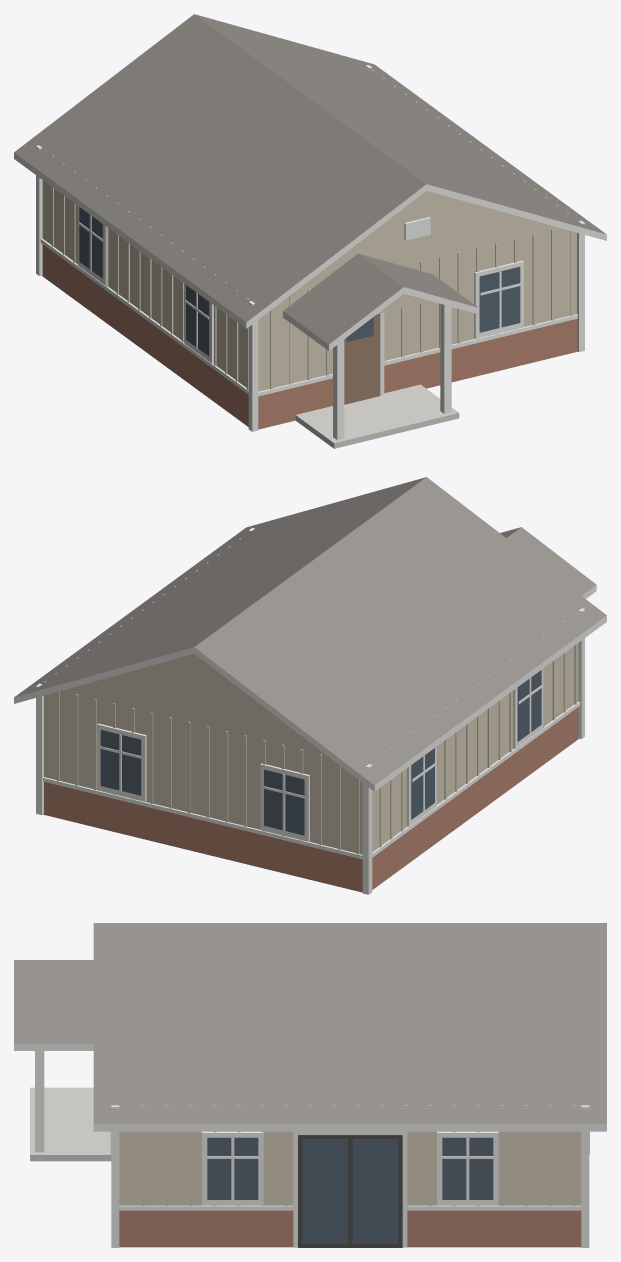
The model's file is manteca-craftsman.glb.
3 views of the same model, one above another, from view 1: azimuth 30°, elevation 25°; view 2: azimuth 150°, elevation 25°; view 3: azimuth 270°, elevation 25° (orthographic). The views are drawn at different scales.
Visible parts, largest first — view 1: The Manteca (craftsman); view 2: The Manteca (craftsman); view 3: The Manteca (craftsman).
Part boxes in pixels (left/top/right/bottom): The Manteca (craftsman): left=14, top=14, right=606, bottom=448; The Manteca (craftsman): left=14, top=477, right=606, bottom=894; The Manteca (craftsman): left=14, top=923, right=606, bottom=1247.
Size of the model in its own units: 8.08 by 4.58 by 10.41.
